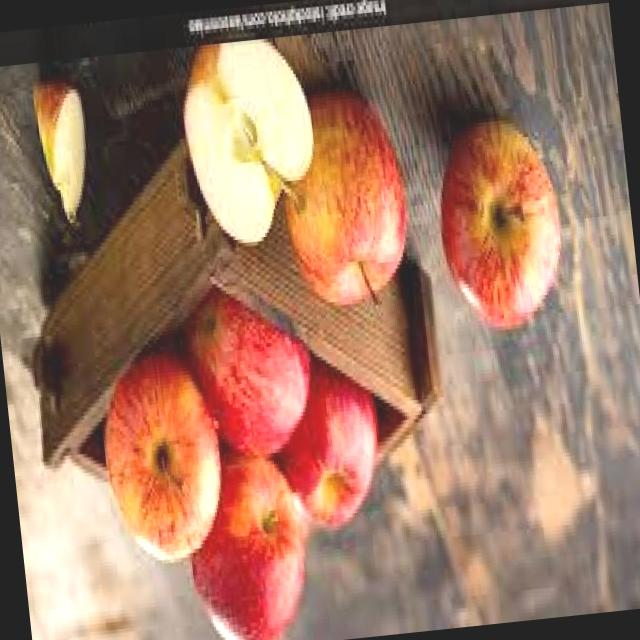Apple: (274, 85, 418, 317), (176, 34, 326, 254), (429, 115, 572, 338), (95, 344, 232, 572), (180, 446, 320, 640), (180, 278, 320, 468), (270, 354, 391, 538), (31, 77, 96, 229)
